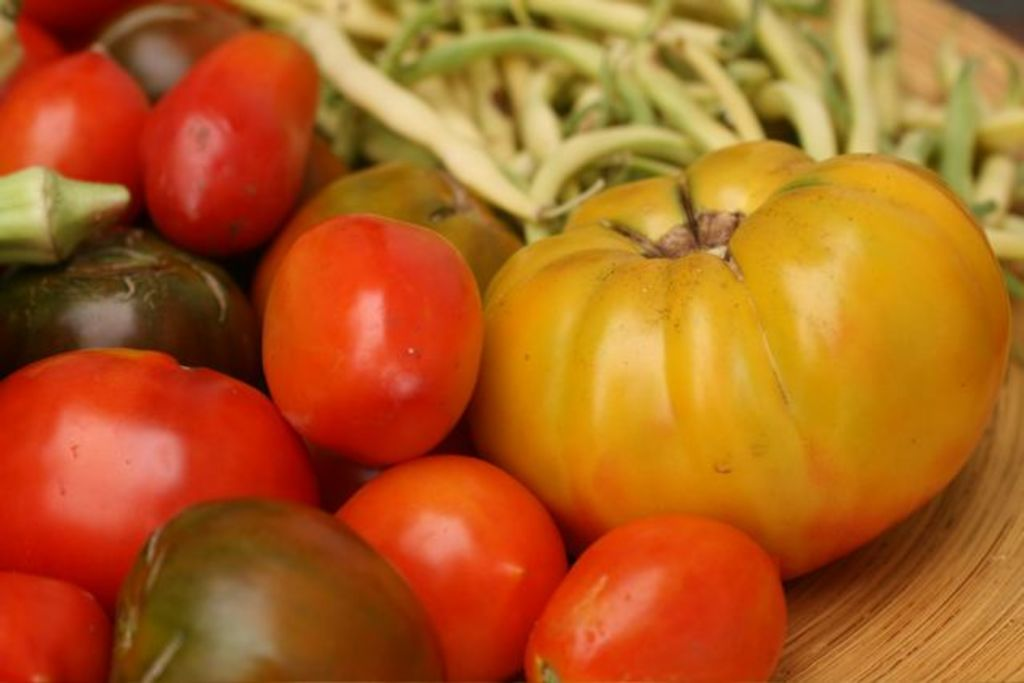Tomato: (1, 137, 1014, 681), (133, 35, 320, 256), (0, 48, 137, 205)
